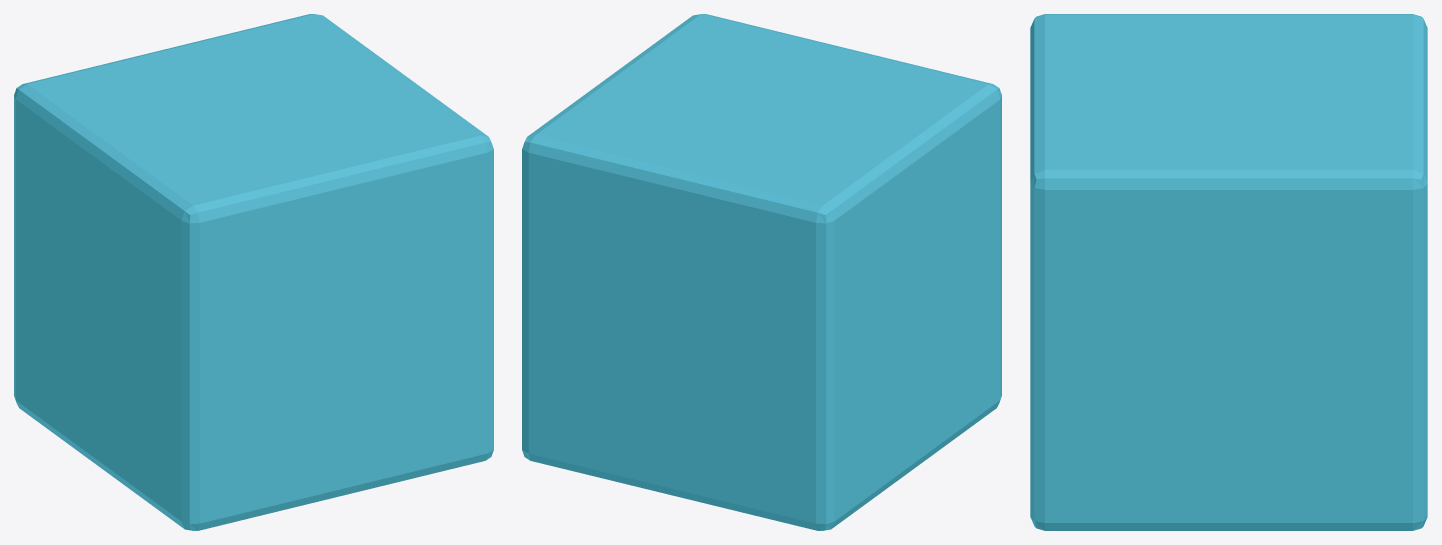
The model's file is retro-arcade-diorama.glb.
3 renders of one model, left to right at view 1: azimuth 30°, elevation 25°; view 2: azimuth 150°, elevation 25°; view 3: azimuth 270°, elevation 25°, orthographic. The views are drawn at different scales.
Parts seen in each view (by area): view 1: retro-arcade-diorama; view 2: retro-arcade-diorama; view 3: retro-arcade-diorama.
Part boxes in pixels (x1,y1,x2,y2): retro-arcade-diorama: [14, 14, 493, 530]; retro-arcade-diorama: [522, 14, 1001, 530]; retro-arcade-diorama: [1030, 14, 1427, 530].
Bounding box in the file's own units: 1 × 1 × 1.
